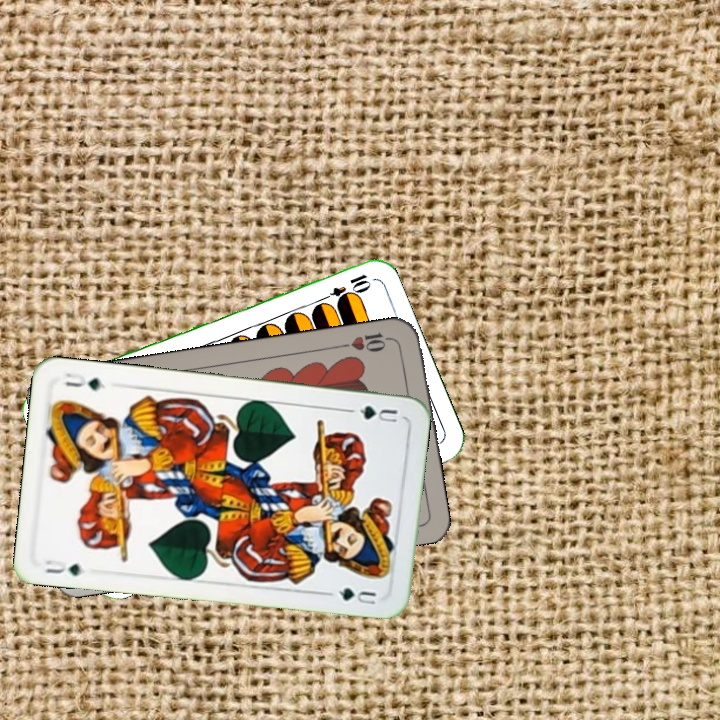E10: (316, 269, 372, 304)
GU: (345, 401, 400, 425), (40, 555, 88, 578)
H10: (337, 328, 396, 355)
